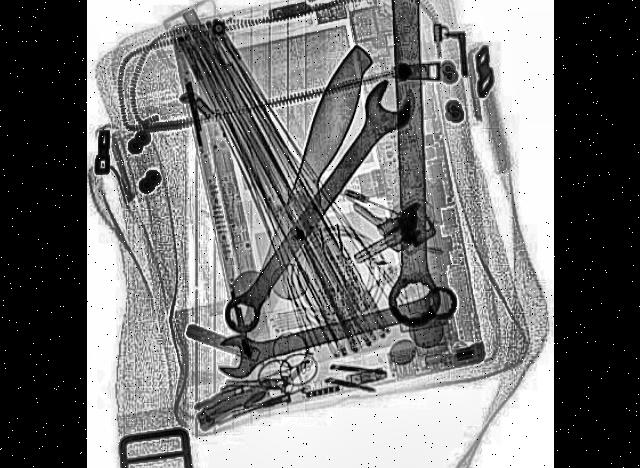Knife: (227, 31, 383, 363)
Wrench: (218, 64, 416, 352), (365, 0, 461, 328), (216, 280, 460, 380)
